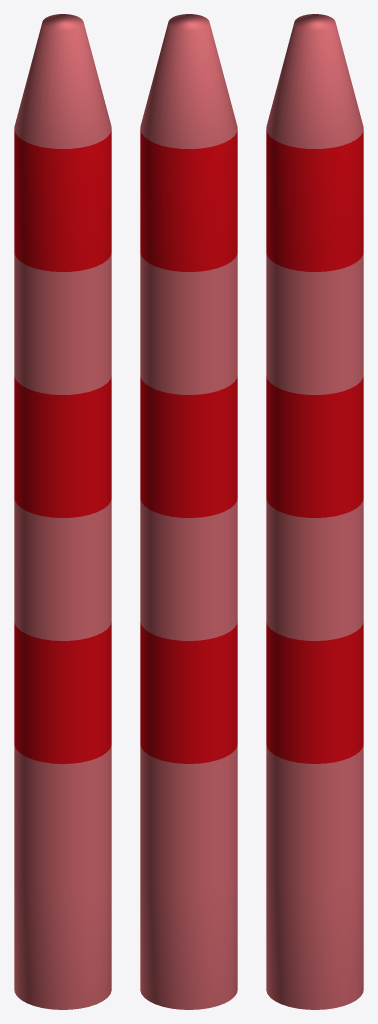
Rendered from flameless_candle.glb.
The picture shows the model from 3 angles, left to right: view 1: azimuth 90°, elevation 25°; view 2: azimuth 150°, elevation 25°; view 3: azimuth 330°, elevation 25°; orthographic projection.
Visible parts, largest first — view 1: body; view 2: body; view 3: body.
Part boxes in pixels (bbox=[...]): body: bbox=[14, 14, 111, 1009]; body: bbox=[140, 14, 237, 1009]; body: bbox=[266, 14, 363, 1009].
Bounding box in the file's own units: 0.04 × 0.4367 × 0.04.
